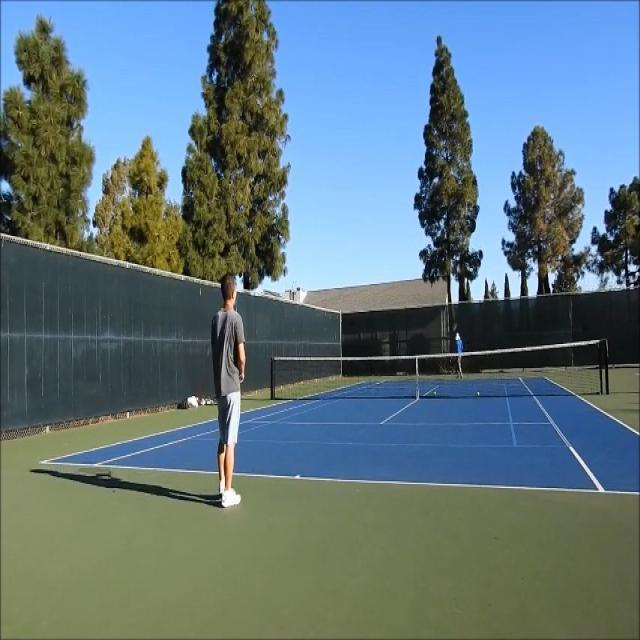court: (38, 378, 640, 494)
net: (270, 338, 610, 401)
player: (210, 272, 247, 508)
